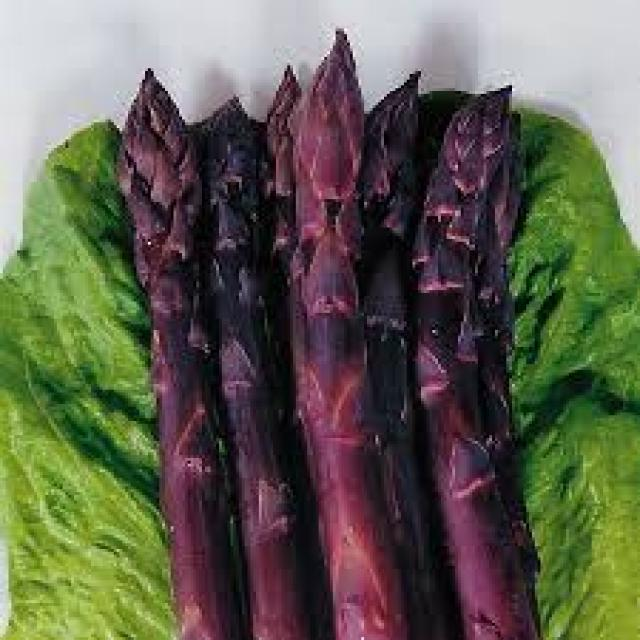organic waste: (0, 117, 174, 637), (114, 68, 247, 637), (495, 105, 637, 637), (296, 23, 410, 637), (407, 83, 532, 637), (196, 94, 307, 637), (361, 68, 447, 637), (478, 108, 535, 637), (259, 60, 304, 637)
